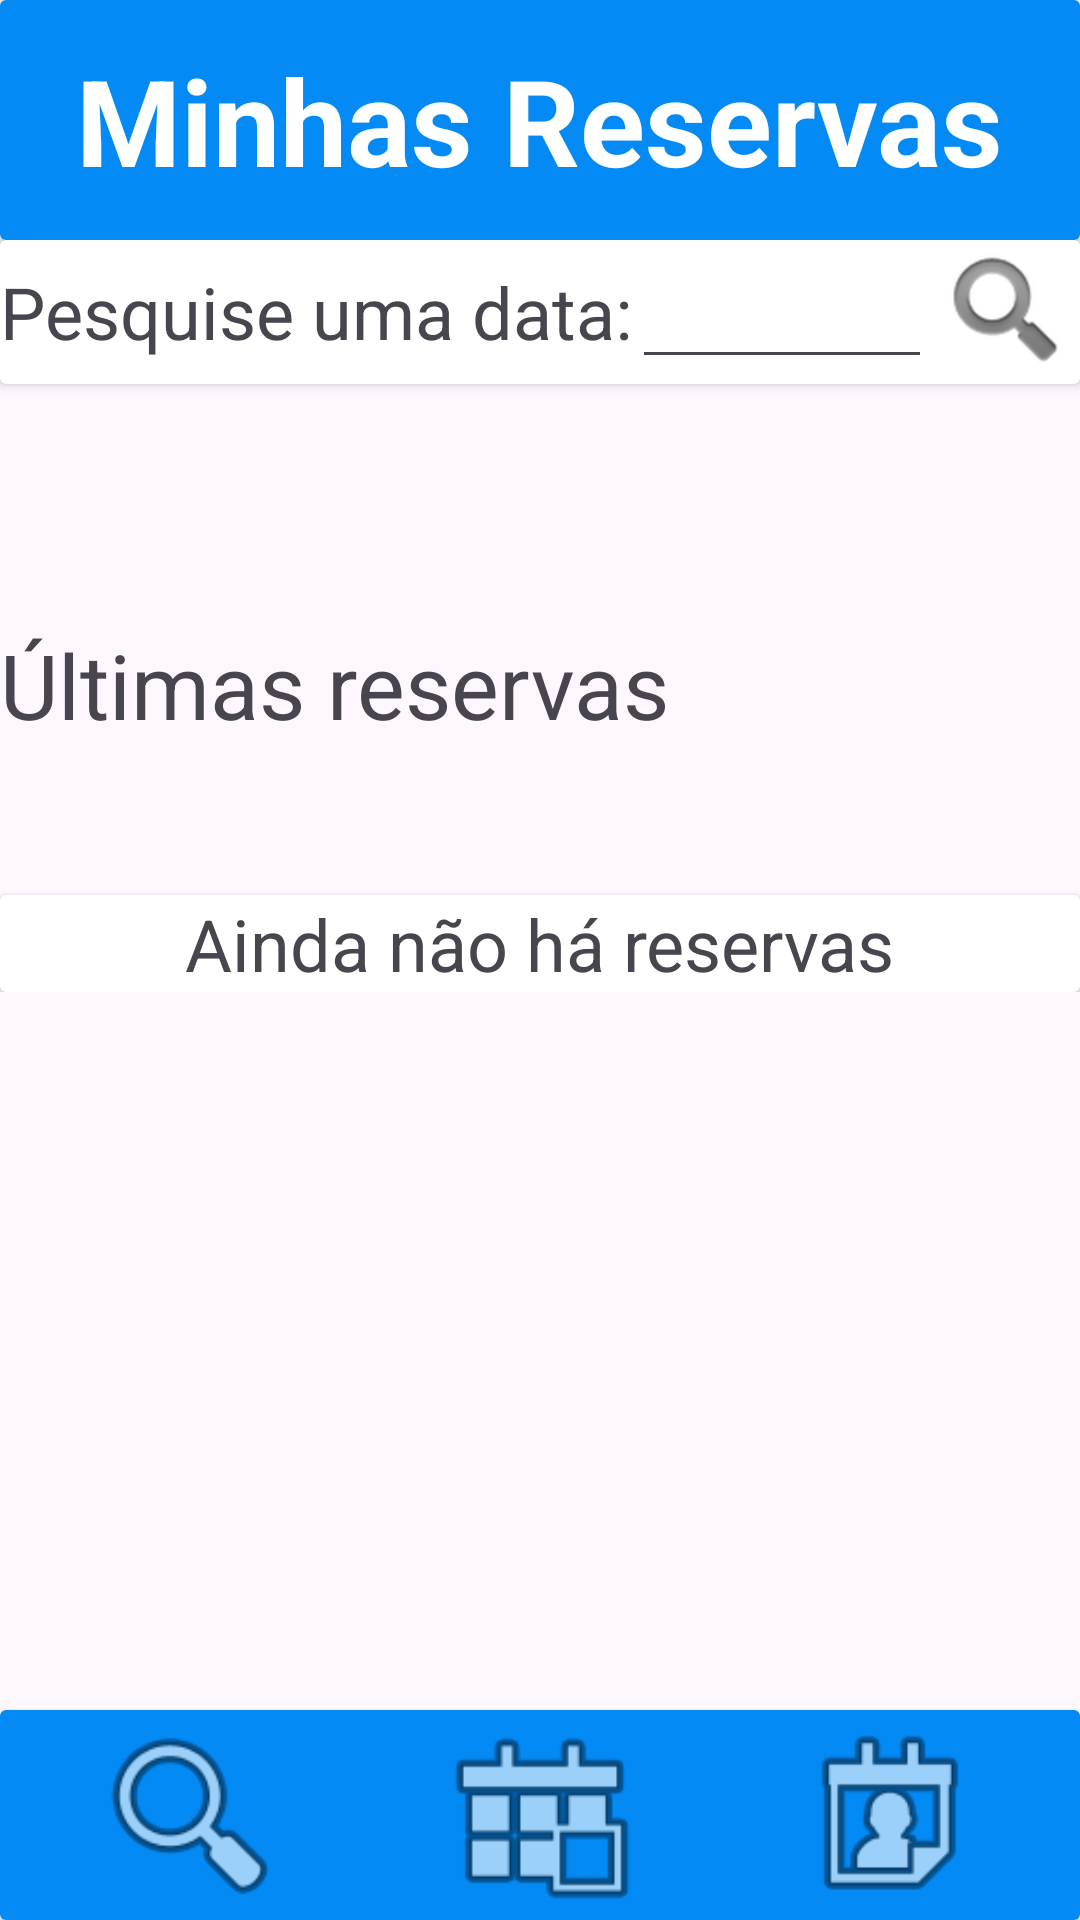

Screen size 1080 x 1920. Icon name, then its box in pixels as (x1, y1, x2, y2):
today: (456, 1738, 628, 1898)
